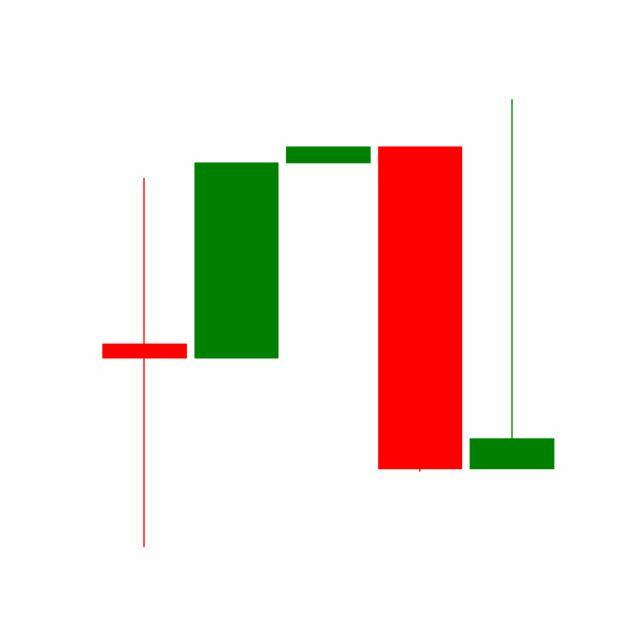Marubozu: (374, 144, 468, 477)
